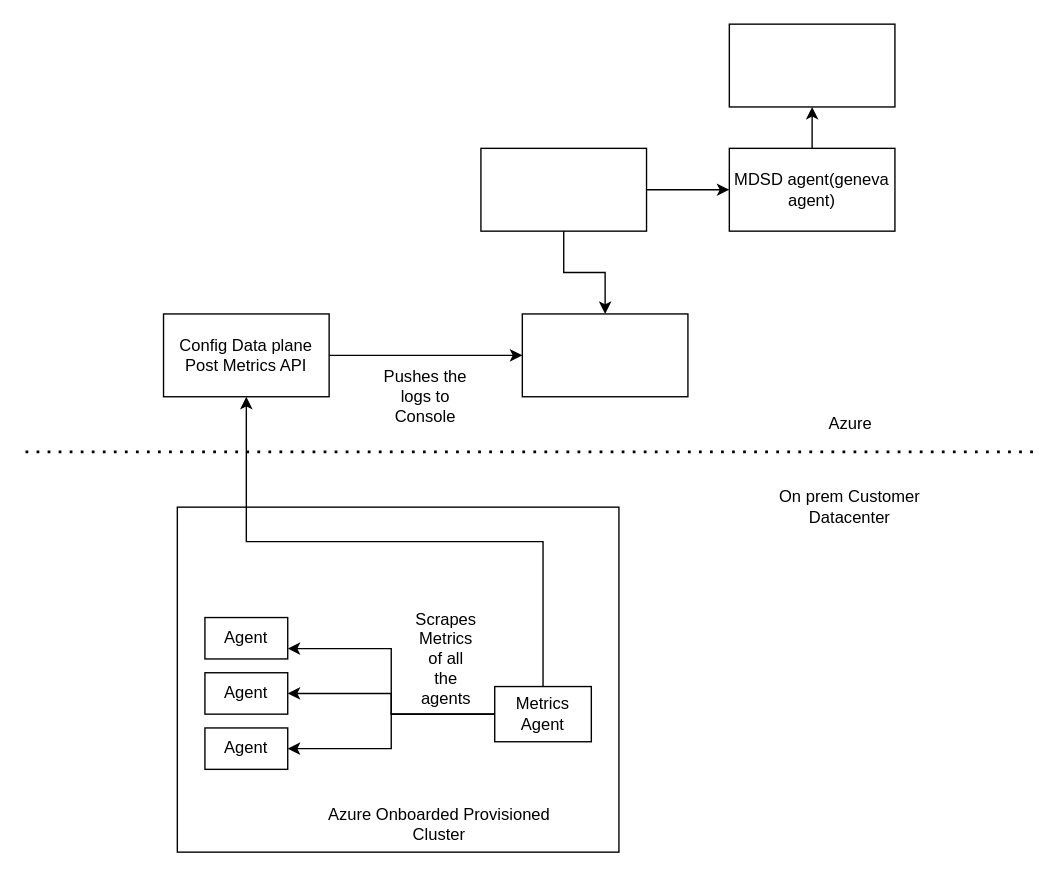
The diagram is 1058 pixels wide and 876 high, and some of its shapes have lost their labels. Here are the shapes that lost their labels. From the top down, the centre of each, then its label:
At [811,65]: "Geneva".
At [563,189]: "FluentD".
At [604,355]: "Console".
